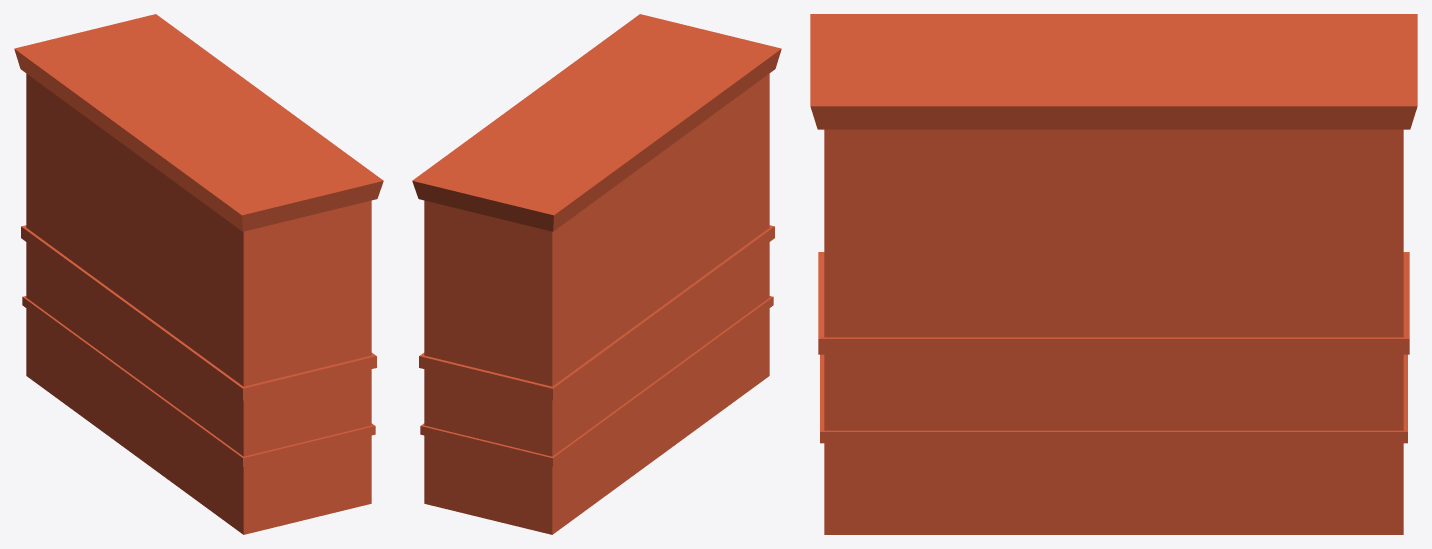
Rendered from building.fbx.
3 views of the same model, side by side, from view 1: azimuth 30°, elevation 25°; view 2: azimuth 150°, elevation 25°; view 3: azimuth 270°, elevation 25° (orthographic). The views are drawn at different scales.
Parts seen in each view (by area): view 1: Cube; view 2: Cube; view 3: Cube.
Boxes of the visible parts, left/top/right/bottom form: Cube: left=14, top=14, right=383, bottom=534; Cube: left=412, top=14, right=781, bottom=534; Cube: left=810, top=14, right=1417, bottom=534.
Bounding box in the file's own units: 1382 × 3028 × 3846.
